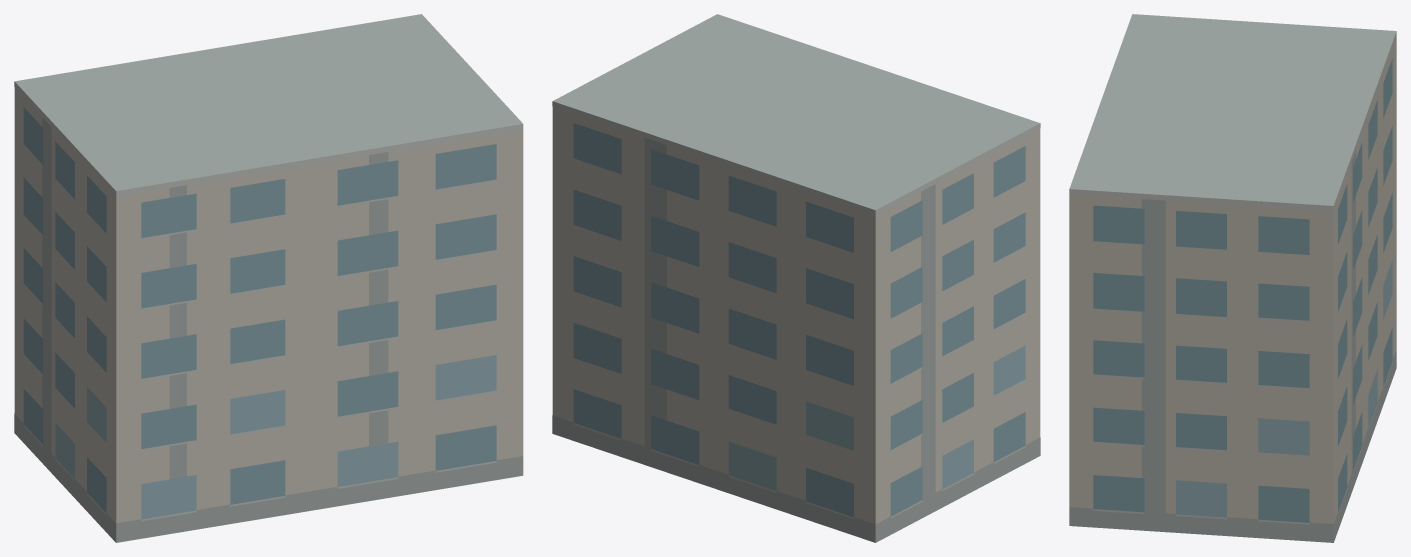
The model's file is residential-0d8d7ee0-ca3f-4060-bd76-6c46887ec9cc.glb.
3 renders of one model, left to right at view 1: azimuth 30°, elevation 25°; view 2: azimuth 150°, elevation 25°; view 3: azimuth 270°, elevation 25°, orthographic. The views are drawn at different scales.
Parts seen in each view (by area): view 1: residential-0d8d7ee0-ca3f-4060-bd76-6c46887ec9cc.tmp; view 2: residential-0d8d7ee0-ca3f-4060-bd76-6c46887ec9cc.tmp; view 3: residential-0d8d7ee0-ca3f-4060-bd76-6c46887ec9cc.tmp.
Part boxes in pixels (x1,y1,x2,y2): residential-0d8d7ee0-ca3f-4060-bd76-6c46887ec9cc.tmp: (14, 14, 523, 542); residential-0d8d7ee0-ca3f-4060-bd76-6c46887ec9cc.tmp: (552, 14, 1040, 542); residential-0d8d7ee0-ca3f-4060-bd76-6c46887ec9cc.tmp: (1069, 14, 1396, 542).
Bounding box in the file's own units: 18.65 × 15.25 × 13.44.
